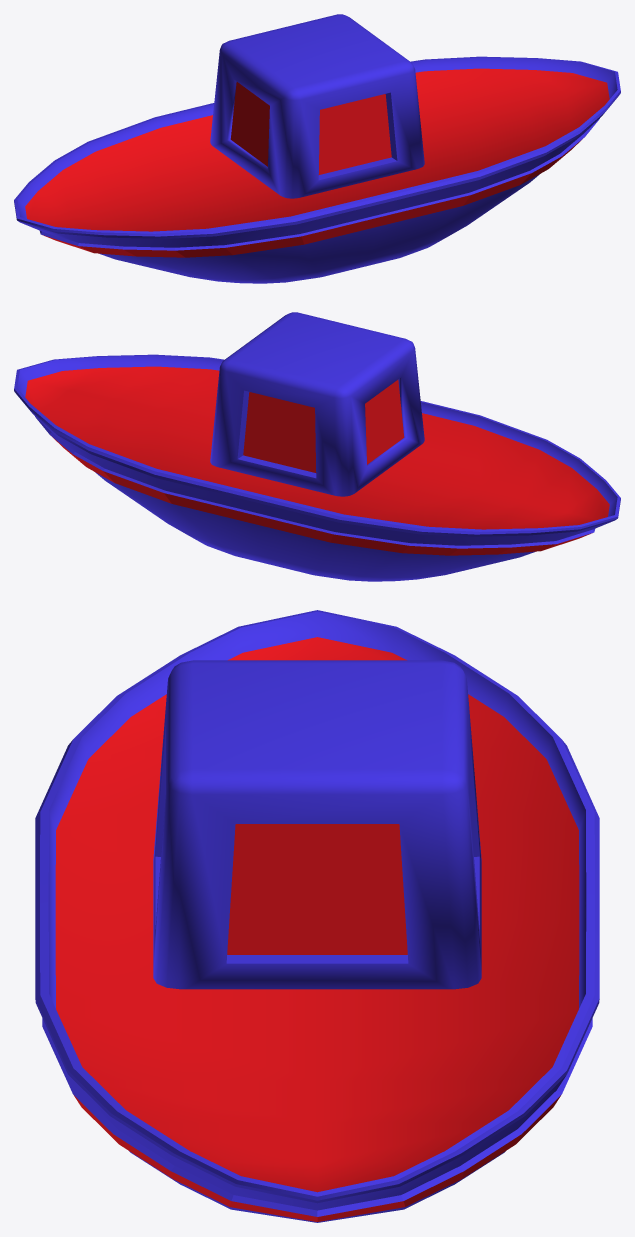
The model's file is SpecialBoat.fbx.
The picture shows the model from 3 angles, top to bottom: view 1: azimuth 30°, elevation 25°; view 2: azimuth 150°, elevation 25°; view 3: azimuth 270°, elevation 25°; orthographic projection. The views are drawn at different scales.
Parts seen in each view (by area): view 1: Cube; view 2: Cube; view 3: Cube.
Boxes of the visible parts, x1,y1,x2,y2 form: Cube: (14, 14, 620, 283); Cube: (14, 312, 620, 581); Cube: (35, 610, 599, 1222).
Bounding box in the file's own units: 483 × 142 × 196.
